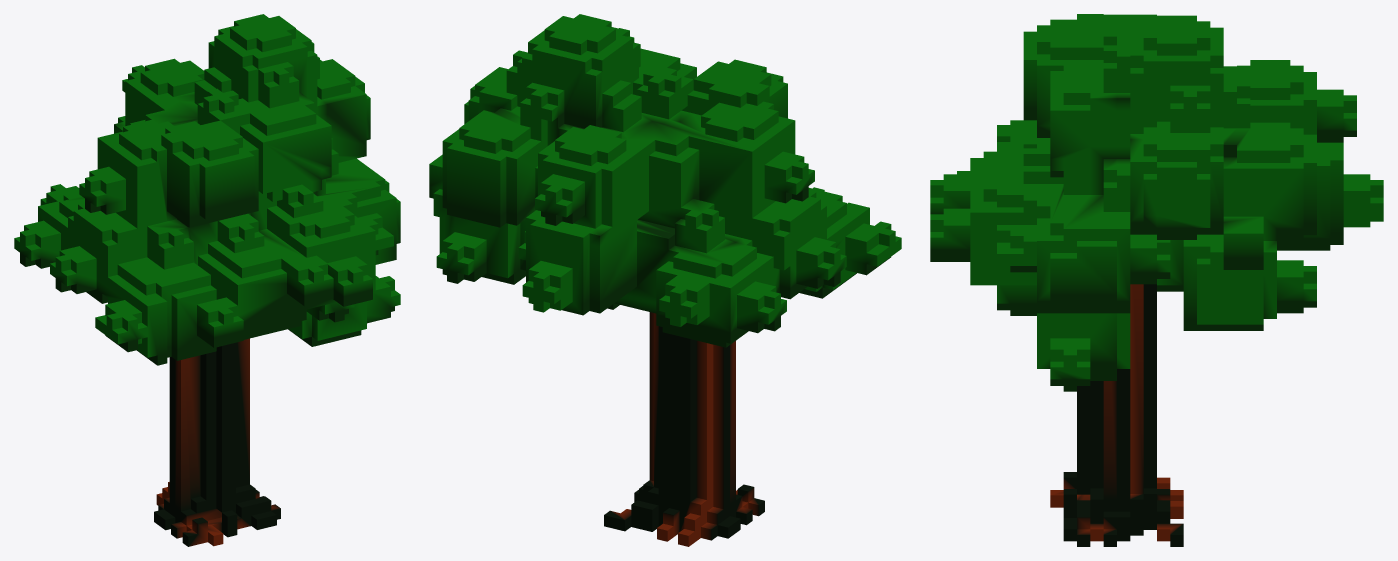
File: Tree_11.fbx
The picture shows the model from 3 angles, left to right: view 1: azimuth 30°, elevation 25°; view 2: azimuth 150°, elevation 25°; view 3: azimuth 270°, elevation 25°; orthographic projection. The views are drawn at different scales.
Visible parts, largest first — view 1: Tree_11; view 2: Tree_11; view 3: Tree_11.
Part boxes in pixels (<box>): Tree_11: <box>14,14,400,546</box>; Tree_11: <box>429,14,901,546</box>; Tree_11: <box>930,14,1383,546</box>.
Bounding box in the file's own units: 585 × 779 × 602.
